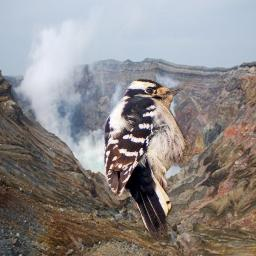Woodpecker: (98, 76, 208, 241)
